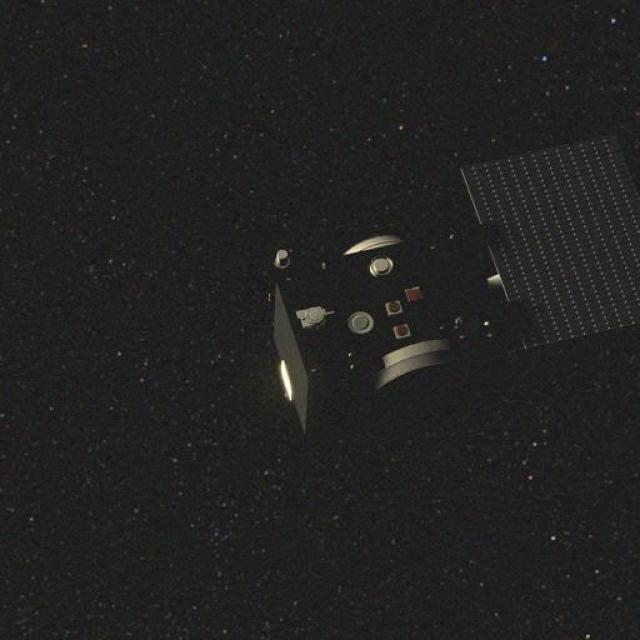proba_3_csc: (241, 144, 640, 465)
